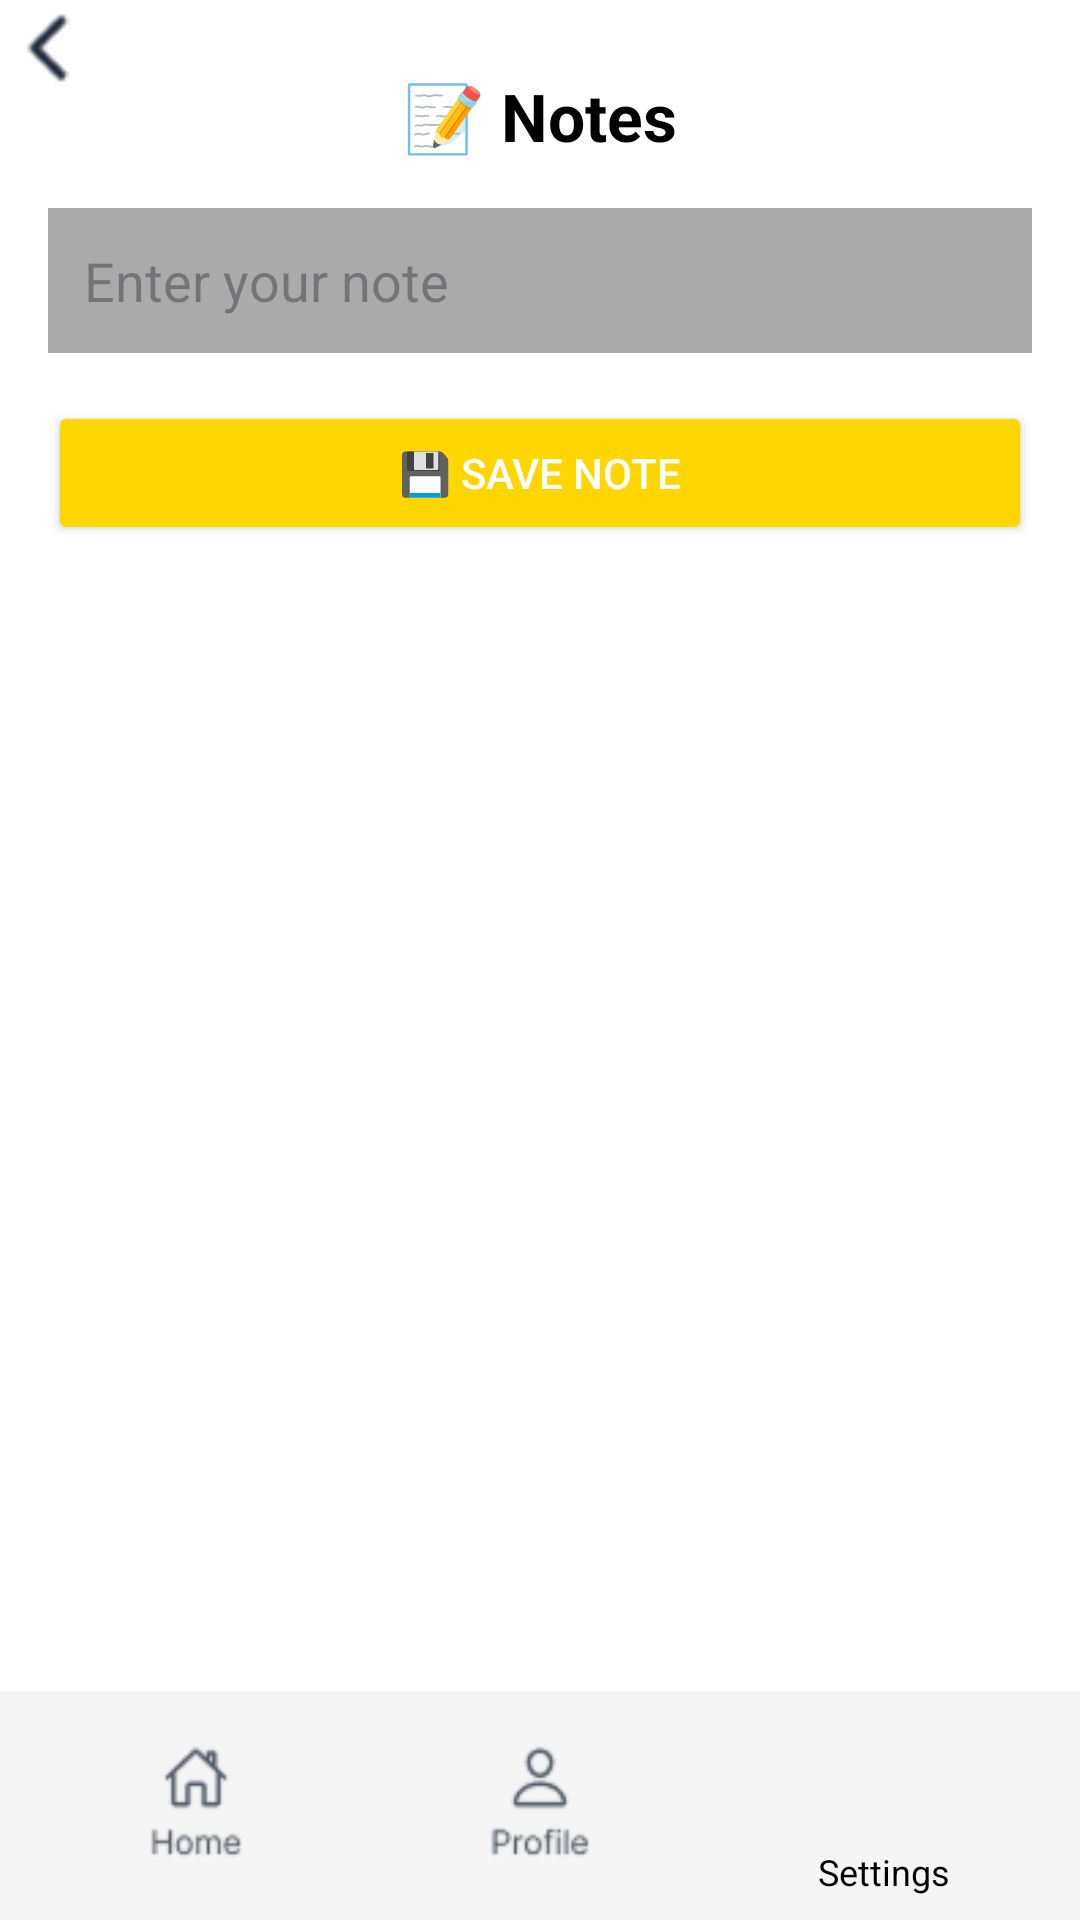

Icon bounding boxes for this 1080×1920 phone screenshot, format (left=x1, top=y1, right=x2, bottom=y2):
Back: (left=27, top=14, right=69, bottom=82)
